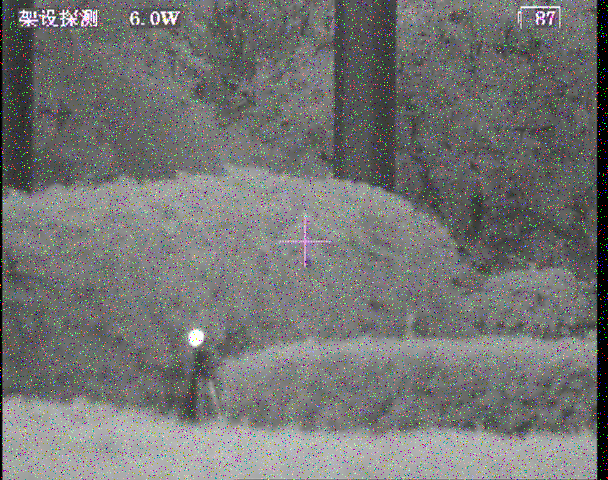my: (188, 328, 205, 348)
